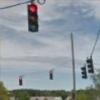traffic lights: (86, 55, 96, 74), (80, 64, 88, 82), (48, 68, 54, 80), (18, 76, 22, 88), (38, 2, 39, 5)
